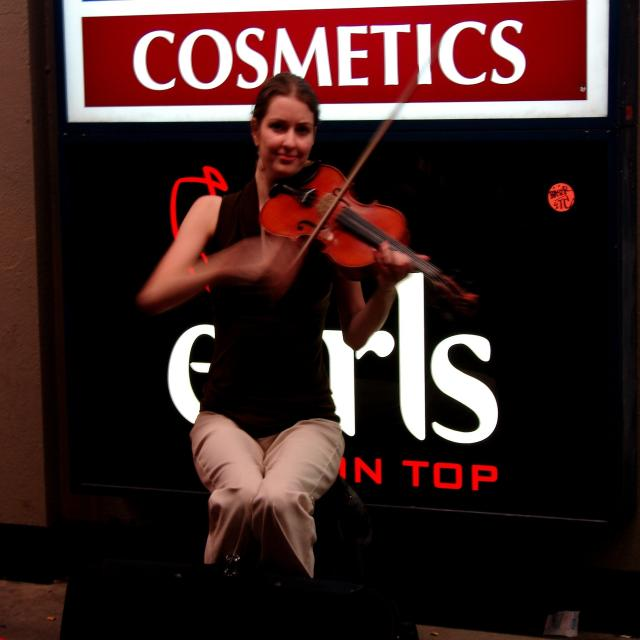violin: (256, 159, 484, 310)
